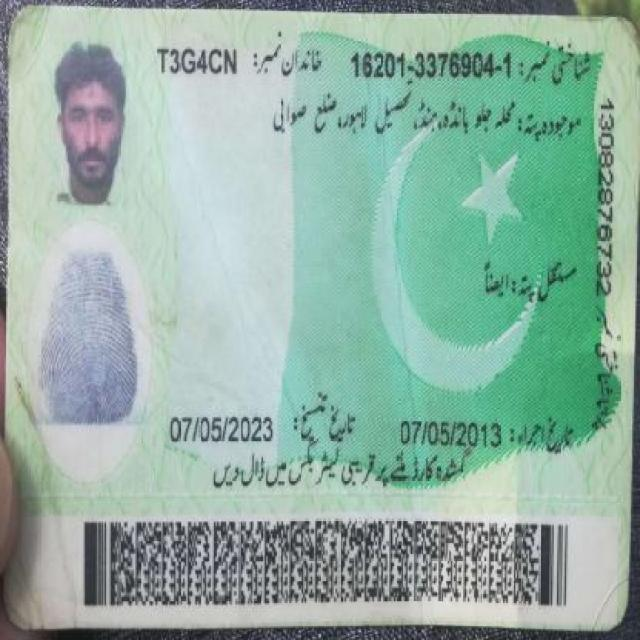Back: (12, 12, 628, 640)
